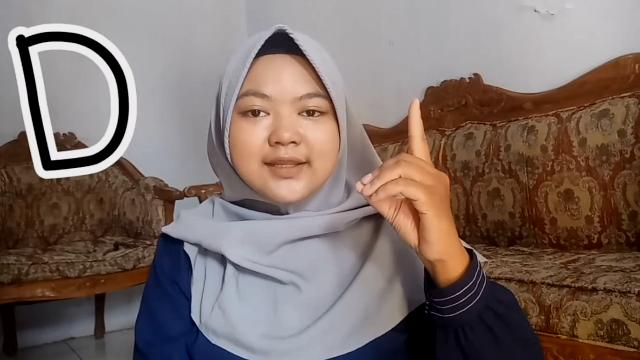D: (354, 100, 462, 264)
